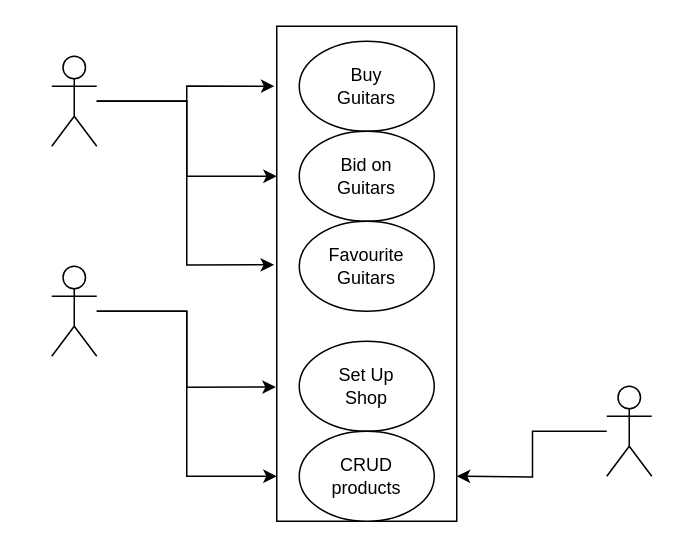
This 680x548 diagram has some shape labels left out. The shapes that lost their labels are listed below. From the top down, each one's centre as x and y in pixels, then its label:
At point 73,100: "NormalUser".
At point 73,310: "ShopUser".
At point 628,430: "Admin".
